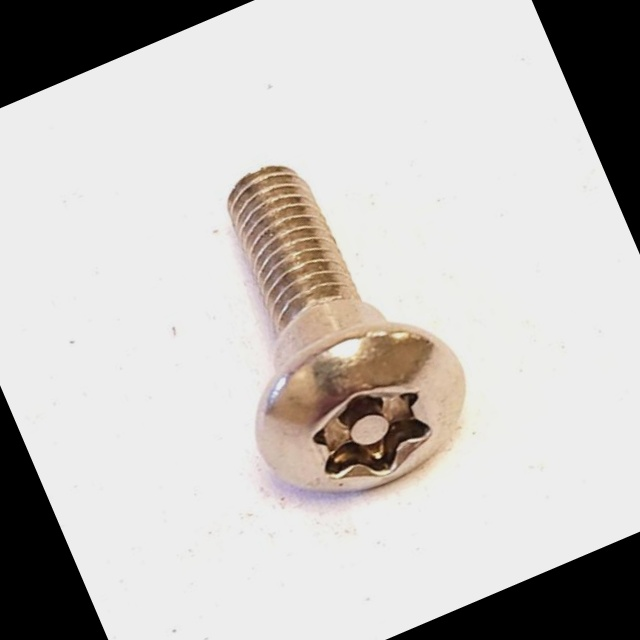torx: (227, 295, 494, 526)
